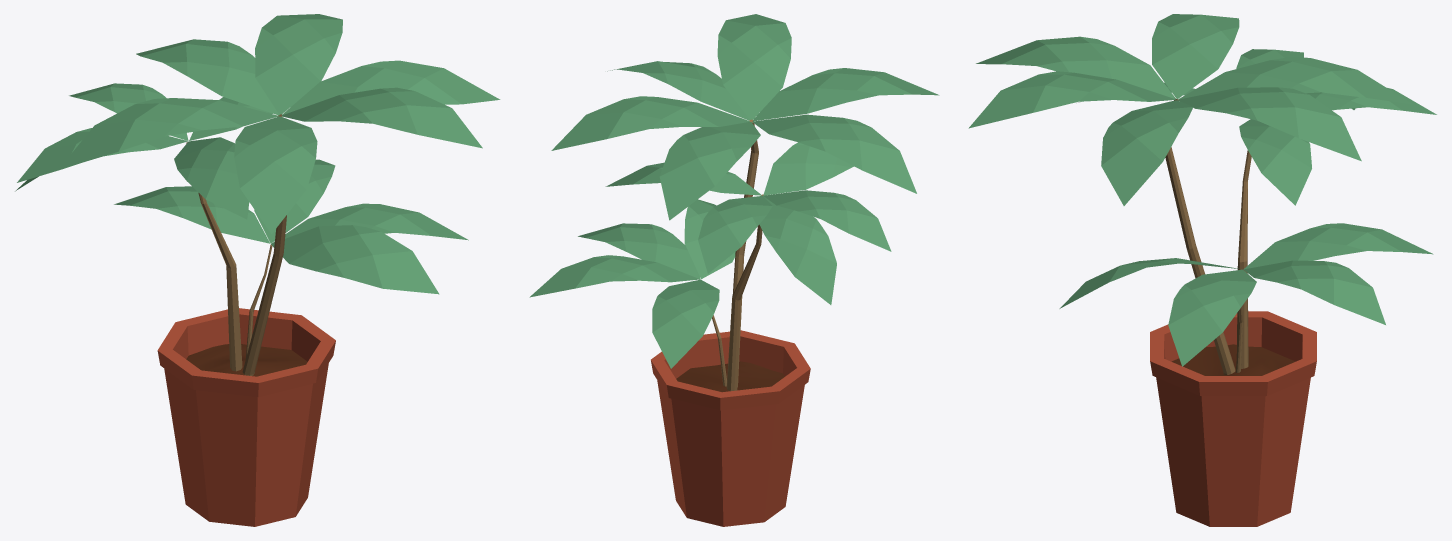
The picture shows the model from 3 angles, left to right: view 1: azimuth 30°, elevation 25°; view 2: azimuth 150°, elevation 25°; view 3: azimuth 270°, elevation 25°; orthographic projection. The views are drawn at different scales.
Parts seen in each view (by area): view 1: leaf.004_6, pot_0, leaf.003_5, leaf.014_7, tige.001_2, tige.002_1; view 2: leaf.004_6, pot_0, leaf.014_7, leaf.003_5, tige.001_2, tige.002_1; view 3: leaf.004_6, pot_0, leaf.003_5, leaf.014_7, tige.002_1, tige.001_2.
Part boxes in pixels (x1,y1,x2,y2): leaf.004_6: (58,14,500,233); pot_0: (157,308,335,526); leaf.003_5: (114,159,468,294); leaf.014_7: (15,83,293,219); tige.001_2: (186,142,242,371); tige.002_1: (242,114,286,375); leaf.004_6: (551,14,939,220); pot_0: (651,330,810,526); leaf.014_7: (605,142,891,304); leaf.003_5: (529,199,735,368); tige.001_2: (726,194,763,391); tige.002_1: (732,119,758,386); leaf.004_6: (968,14,1413,205); pot_0: (1150,311,1316,526); leaf.003_5: (1059,223,1433,366); leaf.014_7: (1078,49,1436,205); tige.002_1: (1165,98,1235,374); tige.001_2: (1236,150,1251,368).
Size of the model in its own units: 5.14 by 5.45 by 5.16.
